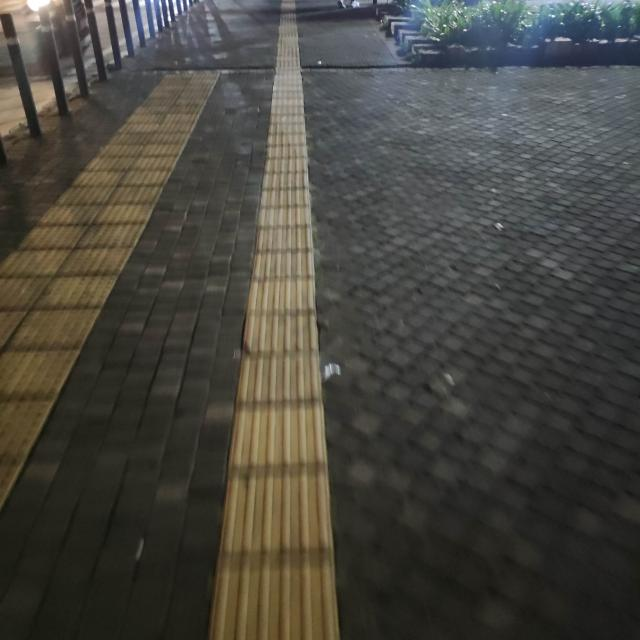lurus: (234, 68, 341, 640)
